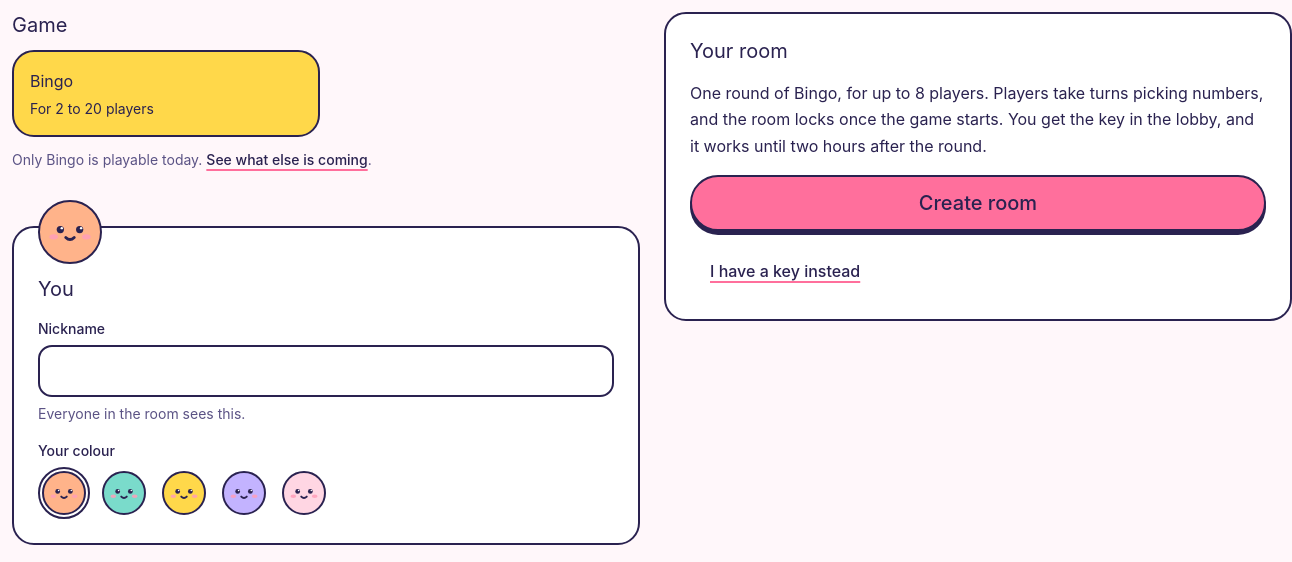
Test: CreateRoomForm › clears the flag as soon as the player types
Click the button "Create room" at (978, 203), box 690,175 -> 1266,231
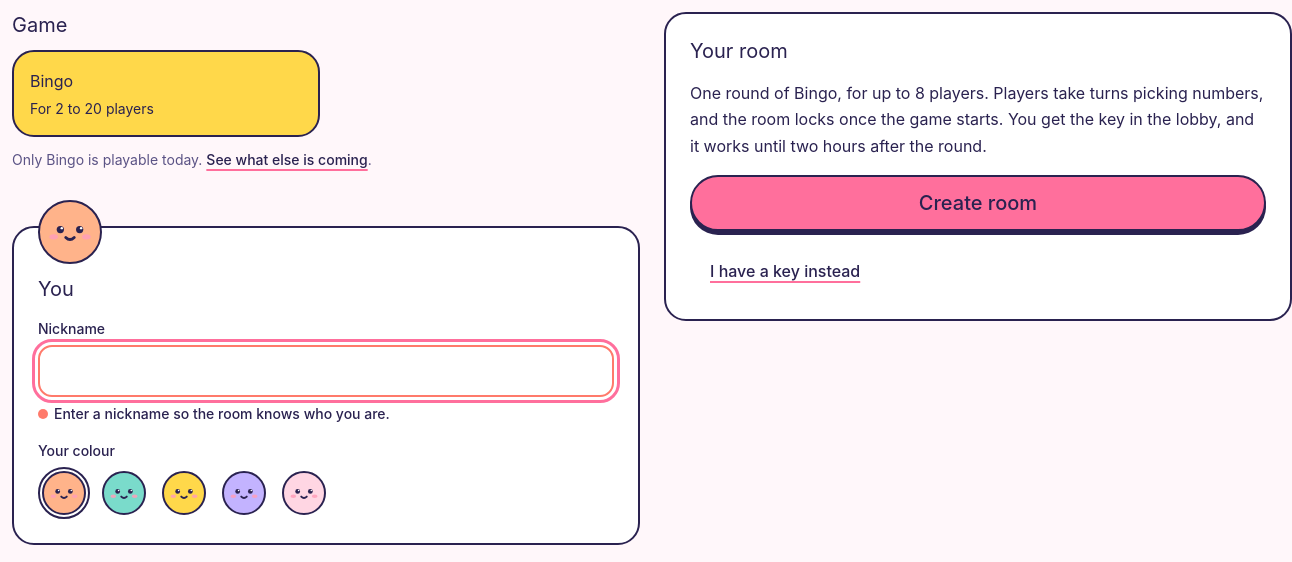
Result: the message "Enter a nickname so the room knows who you are." is shown at 38,405 -> 390,422
Type "Rhea" into the field labelled "Nickname" at (326, 371), box 38,345 -> 614,397
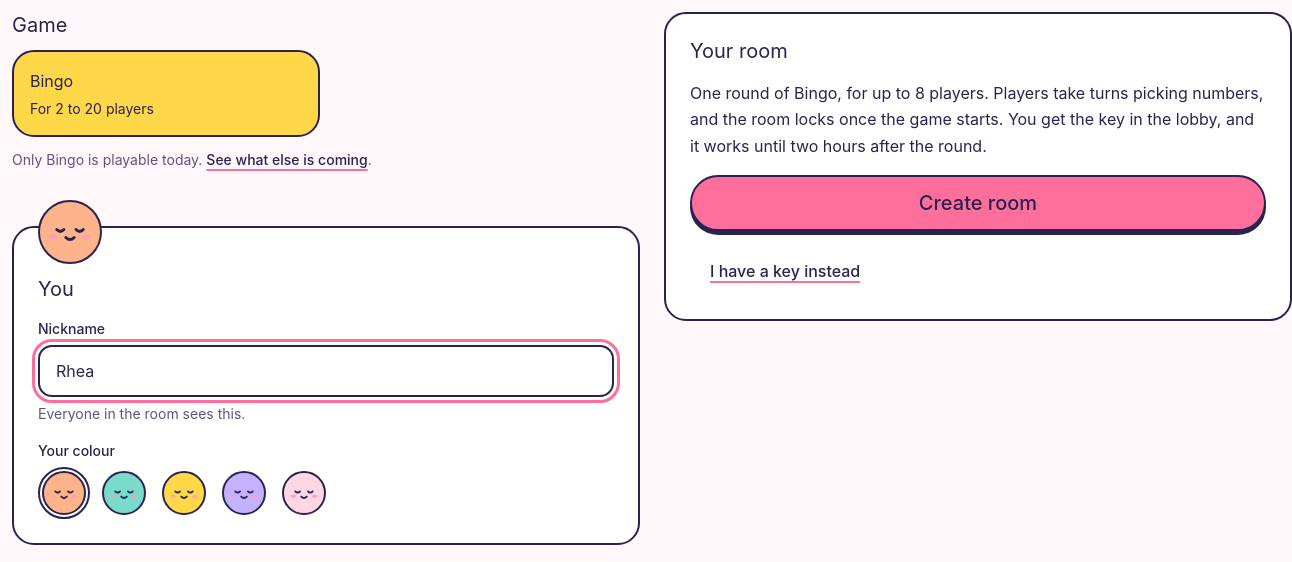
Result: the message "Enter a nickname so the room knows who you are." is gone
